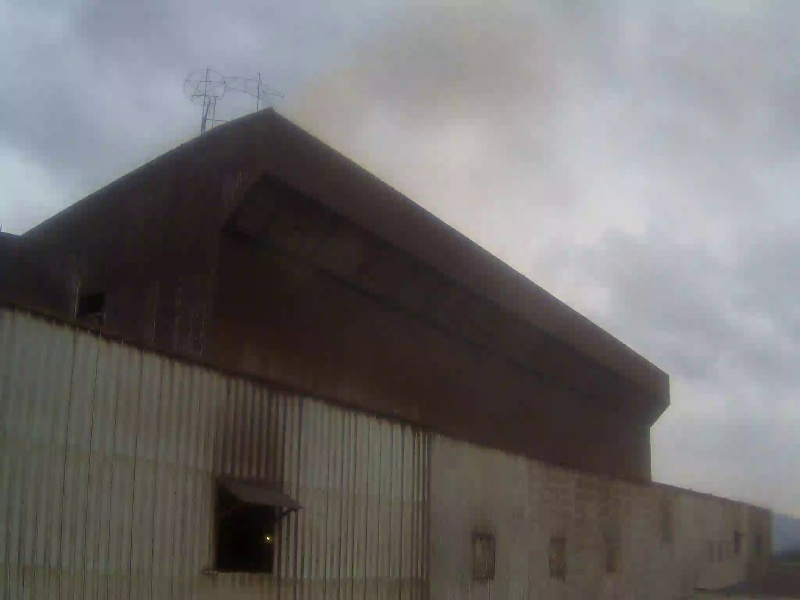bom: (597, 165, 775, 432), (10, 11, 202, 165)
ruim: (338, 17, 494, 248), (278, 74, 369, 165)
